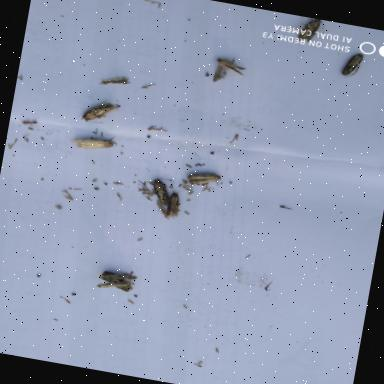pbw: (205, 50, 252, 91), (90, 264, 146, 298), (66, 126, 122, 156), (184, 166, 239, 195), (78, 96, 123, 130), (145, 172, 183, 210), (290, 16, 327, 50), (160, 190, 192, 224), (338, 50, 367, 84)
